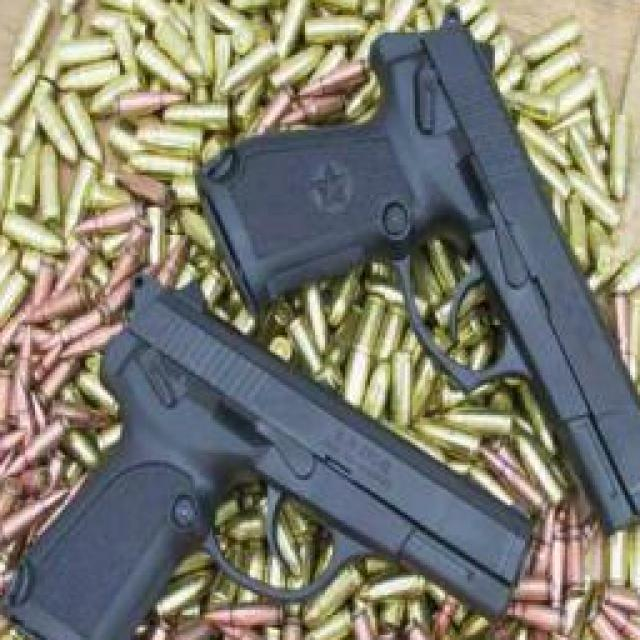pistol: (192, 5, 640, 543), (0, 272, 535, 640)
